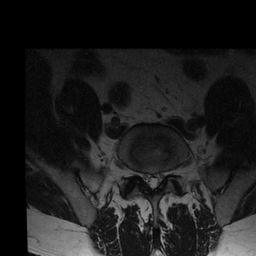CCS_stenosis: (149, 164, 156, 195)
LFS_stenosis: (165, 160, 174, 184)
LLS_normal: (156, 164, 165, 191)
RFS_stenosis: (134, 161, 142, 183)
RLS_normal: (142, 163, 149, 191)
